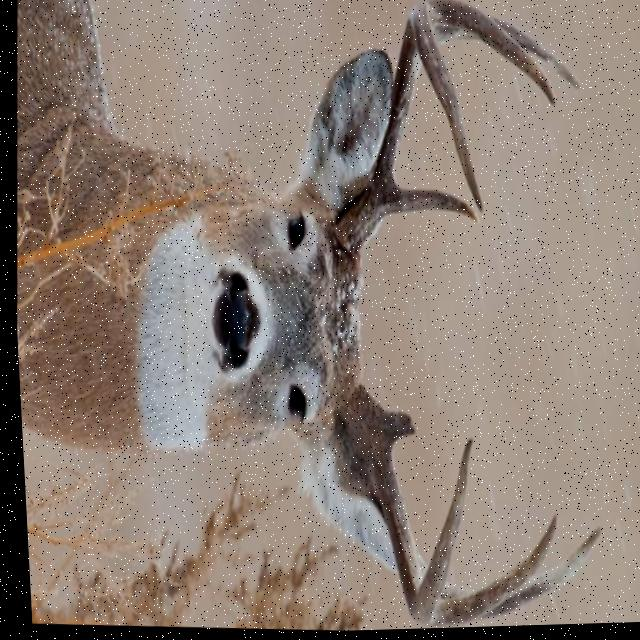L-F: (330, 2, 482, 256)
L-G1: (377, 176, 478, 232)
L-G2: (422, 0, 557, 113)
R-F: (330, 385, 469, 628)
R-G1: (376, 410, 411, 450)
R-G3: (420, 515, 552, 630)
